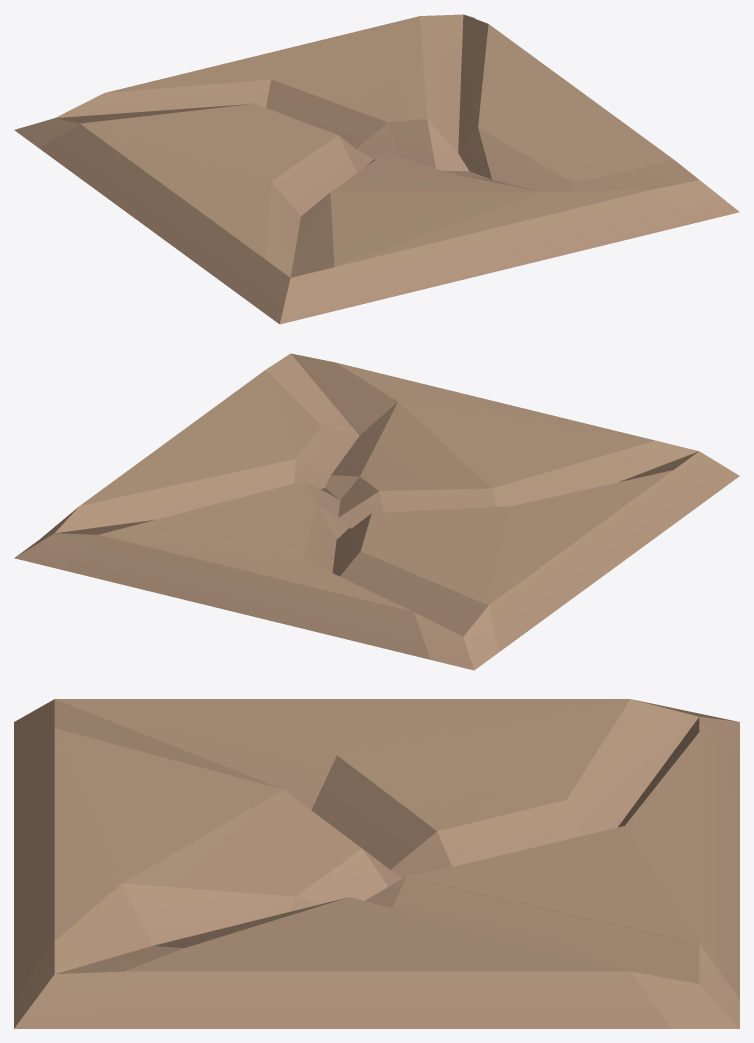
Rendered from Floor_tile_cracked_high_B.fbx.
3 views of the same model, one above another, from view 1: azimuth 30°, elevation 25°; view 2: azimuth 150°, elevation 25°; view 3: azimuth 270°, elevation 25° (orthographic). The views are drawn at different scales.
Visible parts, largest first — view 1: Floor_tile_cracked_high_B; view 2: Floor_tile_cracked_high_B; view 3: Floor_tile_cracked_high_B.
Boxes of the visible parts, x1=… form: Floor_tile_cracked_high_B: x1=14, y1=14, x2=739, y2=324; Floor_tile_cracked_high_B: x1=14, y1=353, x2=739, y2=670; Floor_tile_cracked_high_B: x1=14, y1=699, x2=739, y2=1028.
Bounding box in the file's own units: 100 × 6.84 × 100.
